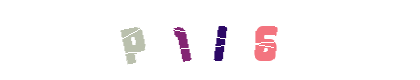1: (161, 0, 241, 80)
6: (225, 0, 305, 80)
I: (170, 0, 250, 80)
P: (108, 0, 188, 80)
